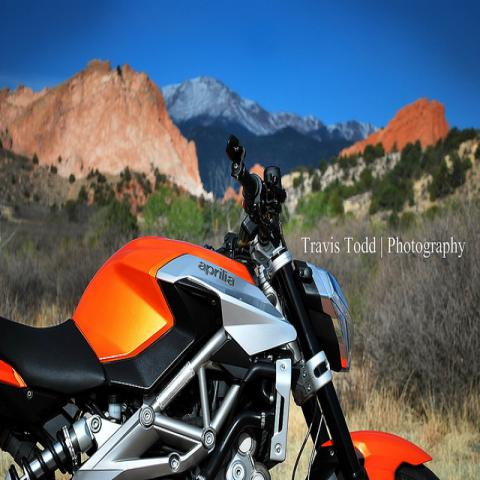motorcycle: (0, 141, 447, 479)
